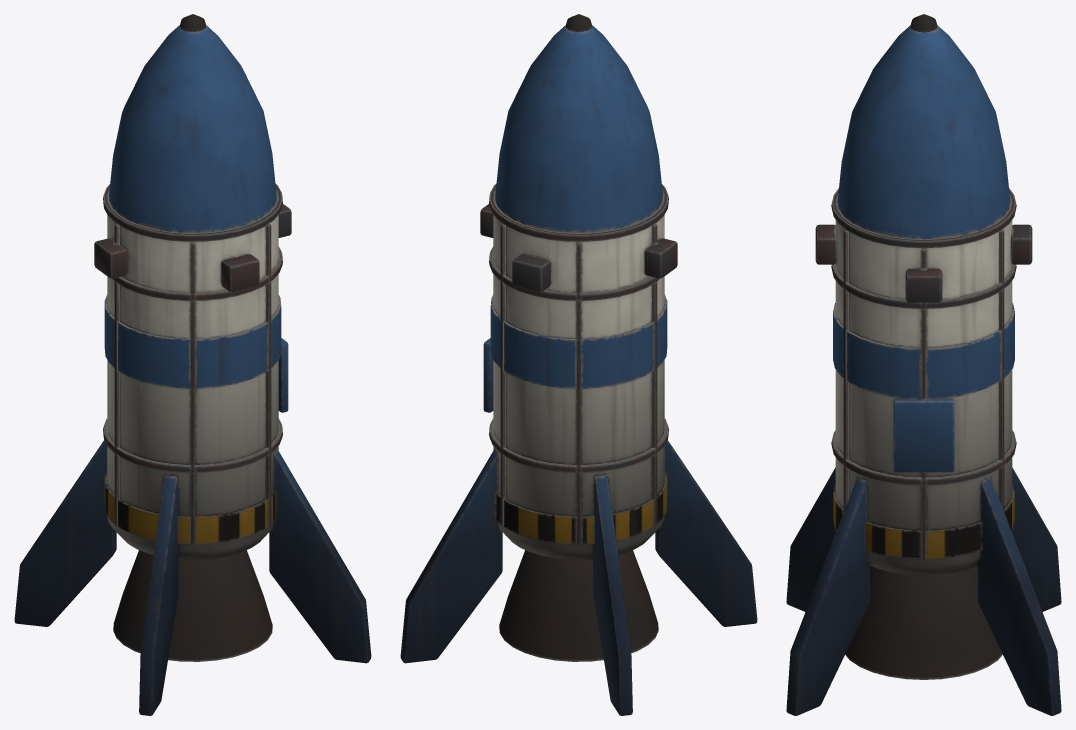
File: kargo_roketi.glb
3 renders of one model, left to right at view 1: azimuth 30°, elevation 25°; view 2: azimuth 150°, elevation 25°; view 3: azimuth 270°, elevation 25°, orthographic. The views are drawn at different scales.
Visible parts, largest first — view 1: rocket; view 2: rocket; view 3: rocket.
Boxes of the visible parts, left/top/right/bottom form: rocket: left=14, top=14, right=371, bottom=715; rocket: left=400, top=14, right=757, bottom=715; rocket: left=786, top=14, right=1061, bottom=715.
Bounding box in the file's own units: 0.9026 × 2.34 × 0.9026.
1 material, 1 textured.
